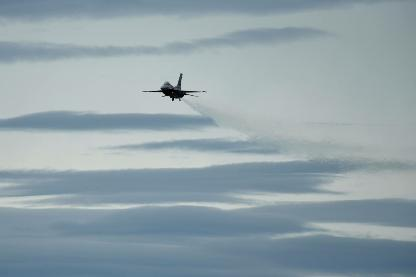F14: (142, 73, 206, 101)
